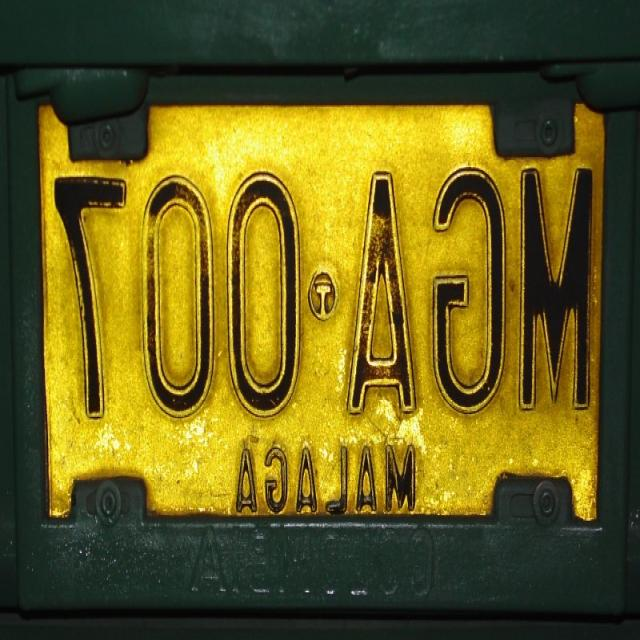placas: (45, 149, 608, 435)
